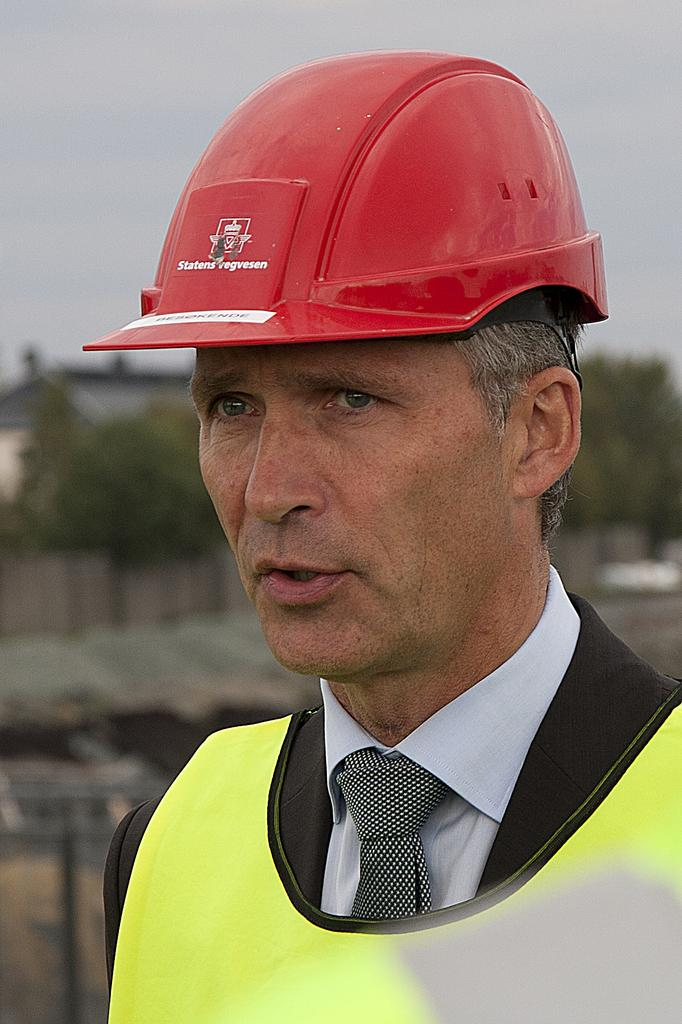helmet: (82, 49, 609, 665)
